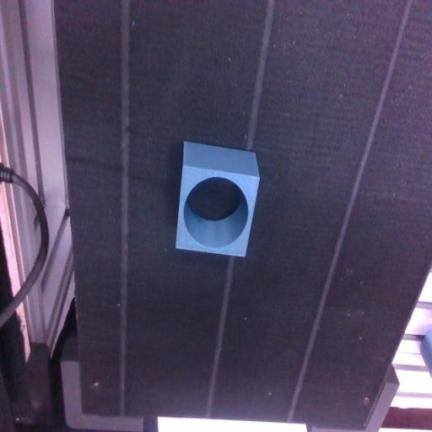square: (177, 142, 259, 256)
